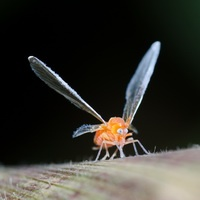insect: (28, 41, 160, 159)
